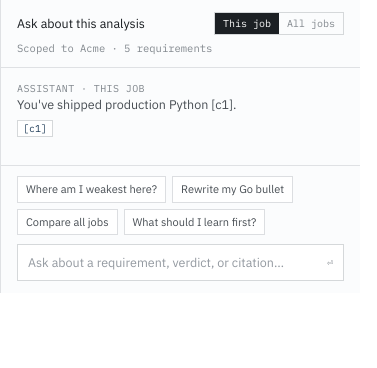
Test: ChatDock › reveals the cited text when a citation is clicked
This screenshot has width=377, height=368.
Expected: the text "Built ingestion pipeline processing 2M events/day" is not shown
Step 1. Click the button "[c1]" → (35, 129), box [17,120,53,137]
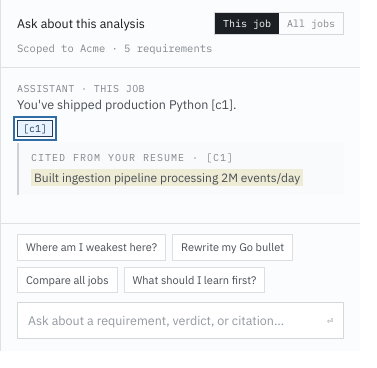
Now the text "Built ingestion pipeline processing 2M events/day" is shown, box [31,169,303,186]
Step 2. Click the button "[c1]" → (35, 129), box [17,120,53,137]
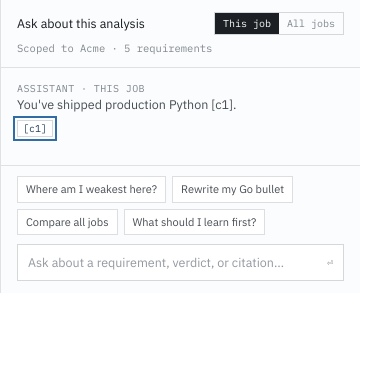
Now the text "Built ingestion pipeline processing 2M events/day" is gone
